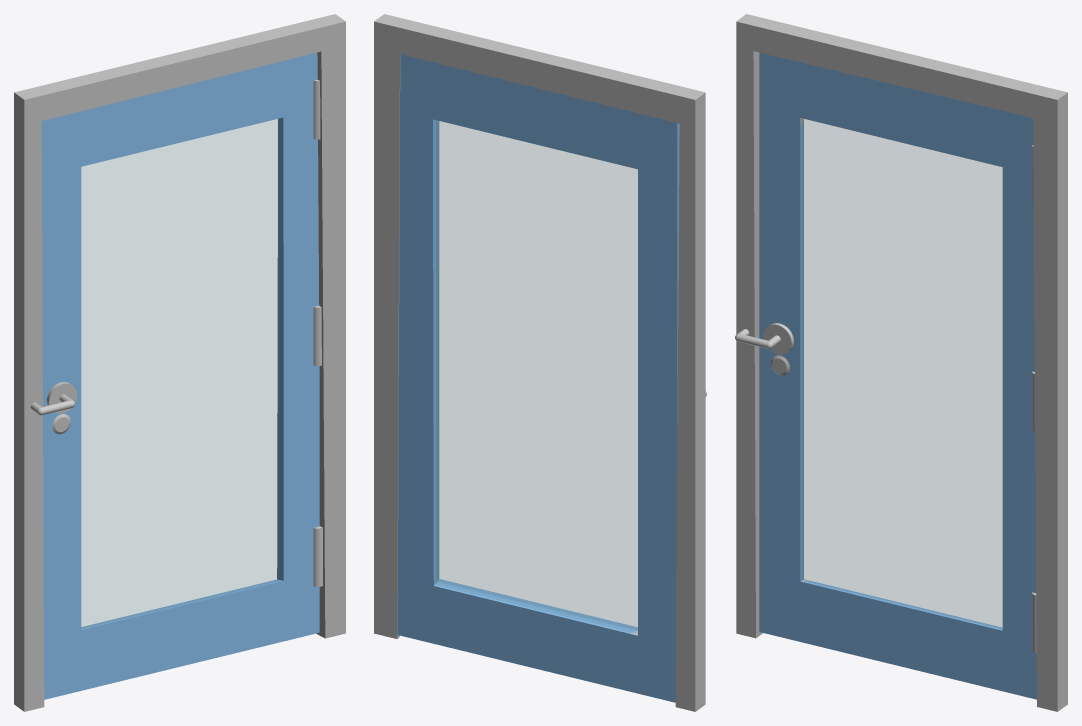
Rendered from hospitalDoor.obj.
3 renders of one model, left to right at view 1: azimuth 30°, elevation 25°; view 2: azimuth 150°, elevation 25°; view 3: azimuth 330°, elevation 25°, orthographic.
Visible parts, largest first — view 1: Glass_Cube, Door_Cube.001, Cube.001_Cube.002, DoorKnob_Cylinder.002; view 2: Glass_Cube, Door_Cube.001, Cube.001_Cube.002; view 3: Glass_Cube, Door_Cube.001, Cube.001_Cube.002, DoorKnob_Cylinder.002.
Boxes of the visible parts, left/top/right/bottom form: Glass_Cube: left=81, top=119, right=279, bottom=627; Door_Cube.001: left=41, top=52, right=322, bottom=699; Cube.001_Cube.002: left=14, top=14, right=345, bottom=711; DoorKnob_Cylinder.002: left=30, top=382, right=77, bottom=434; Glass_Cube: left=436, top=120, right=637, bottom=633; Door_Cube.001: left=397, top=54, right=679, bottom=702; Cube.001_Cube.002: left=374, top=14, right=705, bottom=711; Glass_Cube: left=802, top=119, right=1002, bottom=628; Door_Cube.001: left=759, top=52, right=1036, bottom=699; Cube.001_Cube.002: left=736, top=14, right=1067, bottom=711; DoorKnob_Cylinder.002: left=735, top=323, right=793, bottom=375.
Size of the model in its own units: 2.88 by 5.24 by 0.2967.
